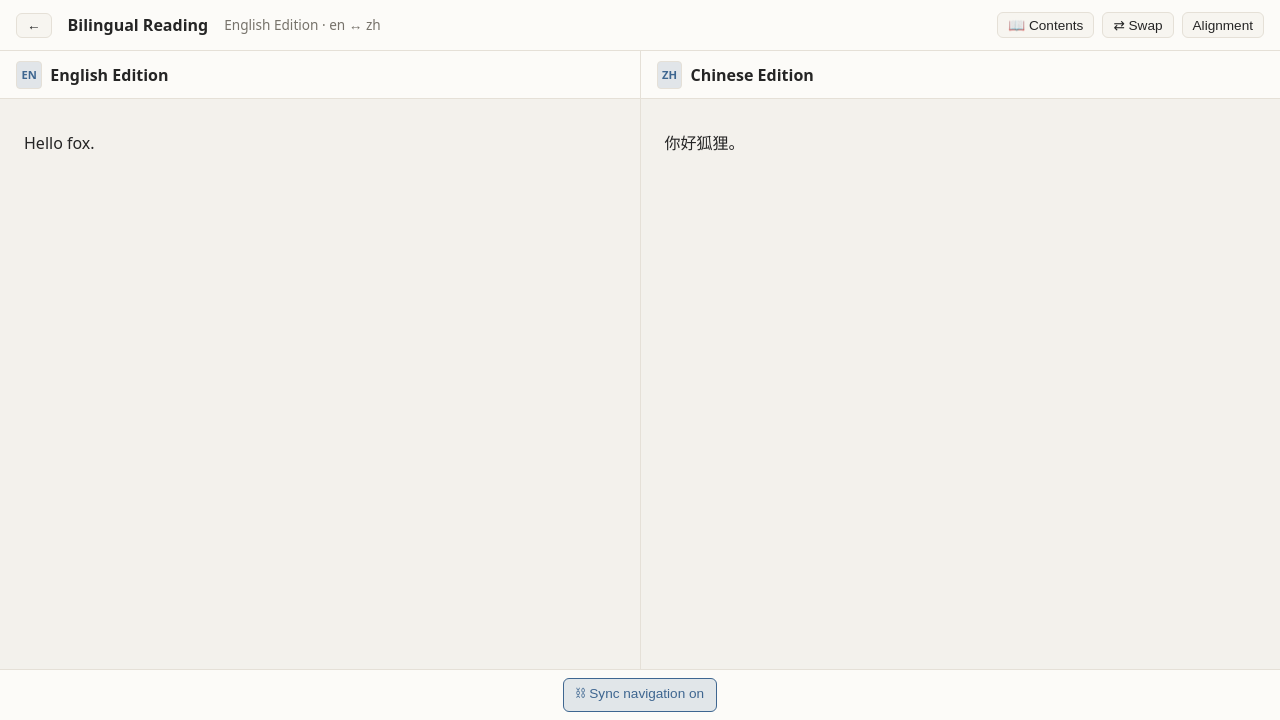
Test: BilingualReader › toggling sync navigation flips the button label
The width and height of the screenshot is (1280, 720).
Expected: the text "Hello fox." is shown, x1=24 y1=132 x2=95 y2=154
Click the button "⛓ Sync navigation on": (640, 695) x1=563 y1=678 x2=717 y2=712
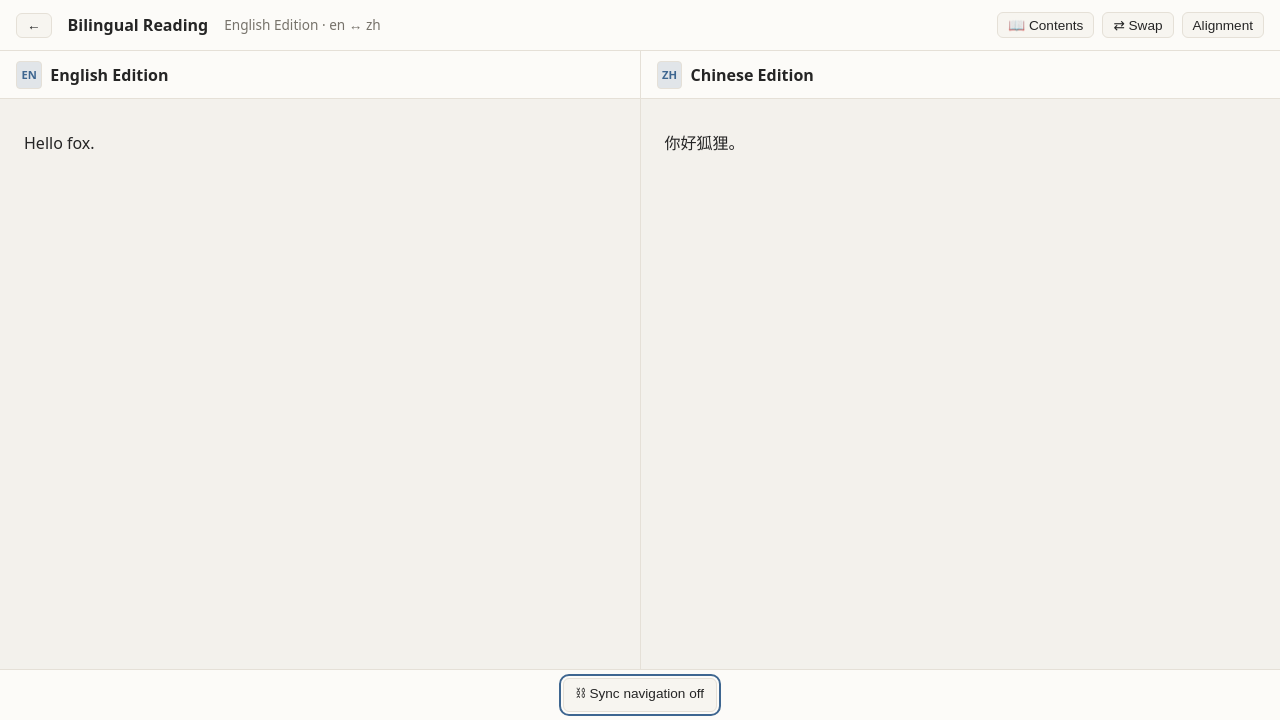
Result: the button "⛓ Sync navigation off" is shown at x1=563 y1=678 x2=717 y2=712
